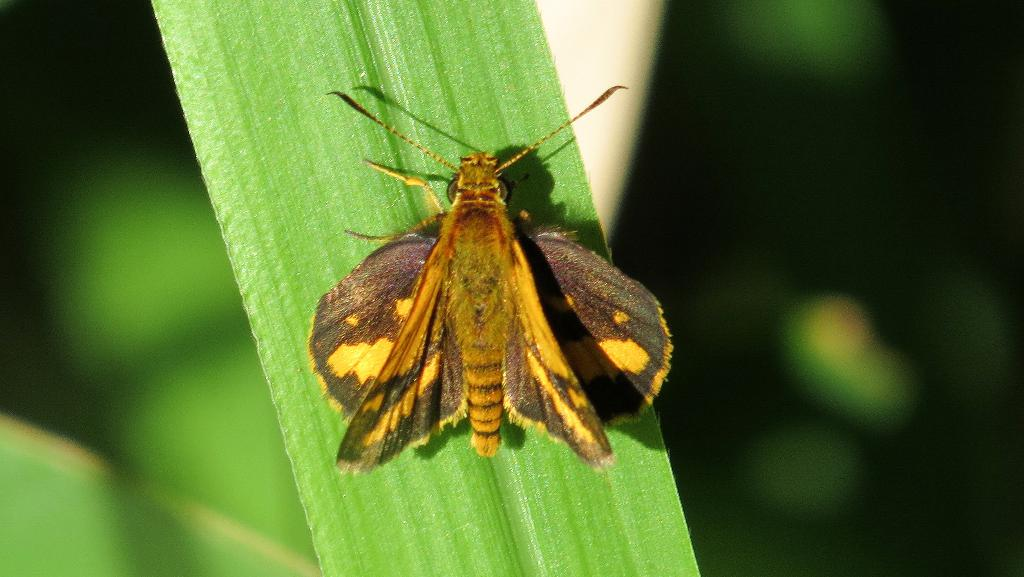Butterfly: (277, 109, 695, 484)
